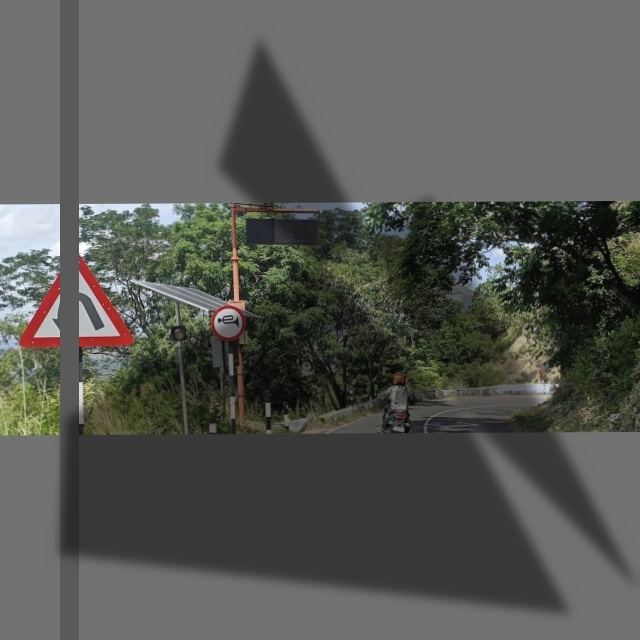Left_Hair_Pin_Bend: (18, 247, 137, 353)
